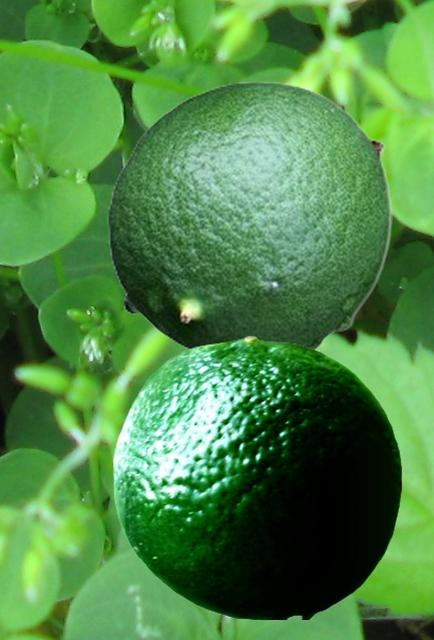calamansi: (113, 335, 401, 618), (107, 80, 391, 350)
